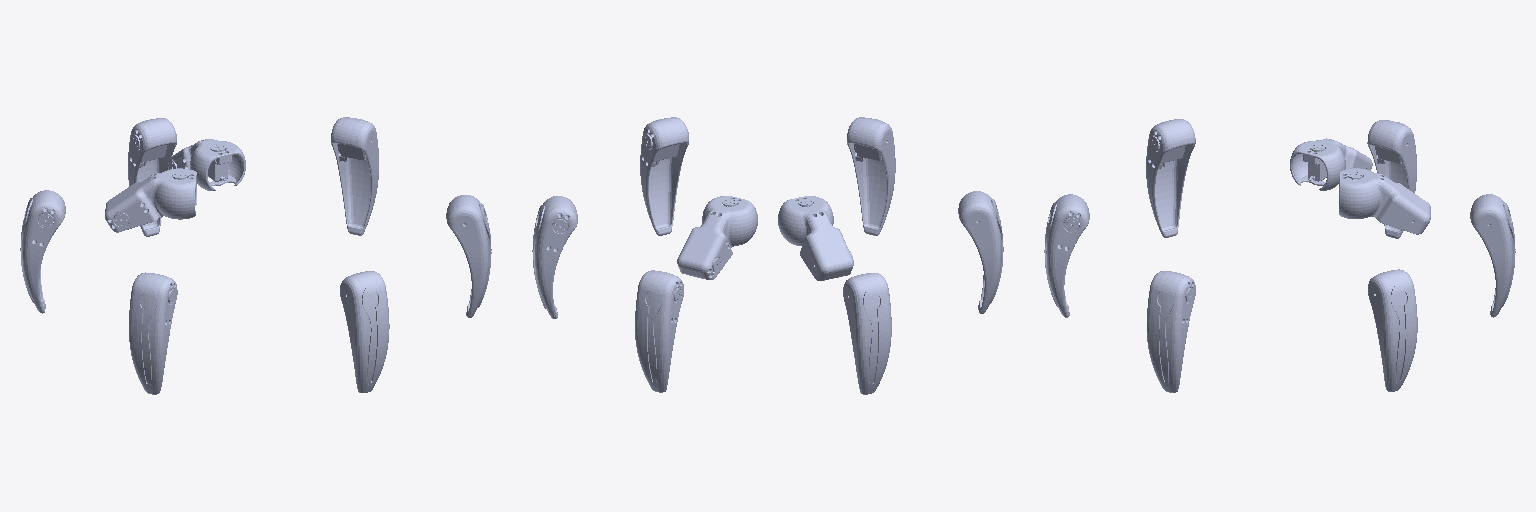
robot.urdf — Spider_Assembly_2:
<?xml version="1.0" encoding="utf-8"?>
<!-- This URDF was automatically created by SolidWorks to URDF Exporter! Originally created by [author] ([email redacted]) 
     Commit Version: 1.6.0-4-g7f85cfe  Build Version: 1.6.7995.38578
     For more information, please see http://wiki.ros.org/sw_urdf_exporter -->
<robot
  name="Spider_Assembly_2">
  <link
    name="base">
    <inertial>
      <origin
        xyz="-1.2244E-08 1.2927E-08 -0.021795"
        rpy="0 0 0" />
      <mass
        value="1.5" />
      <inertia
        ixx="0.002302"
        ixy="-4.563E-10"
        ixz="-1.0633E-10"
        iyy="0.002302"
        iyz="3.0883E-10"
        izz="0.0042233" />
    </inertial>
    <visual>
      <origin
        xyz="0 0 0"
        rpy="0 0 0" />
      <geometry>
        <mesh
          filename="package://Spider_Assembly_2/meshes/base.STL" />
      </geometry>
      <material
        name="">
        <color
          rgba="0.79216 0.81961 0.93333 1" />
      </material>
    </visual>
    <collision>
      <origin
        xyz="0 0 0"
        rpy="0 0 0" />
      <geometry>
        <mesh
          filename="package://Spider_Assembly_2/meshes/base.STL" />
      </geometry>
    </collision>
  </link>
  <link
    name="coxa1">
    <inertial>
      <origin
        xyz="0.00066313 0.03521 -0.033151"
        rpy="0 0 0" />
      <mass
        value="0.18" />
      <inertia
        ixx="9.5472E-05"
        ixy="-1.9634E-06"
        ixz="8.7252E-07"
        iyy="4.9485E-05"
        iyz="2.1567E-05"
        izz="9.9667E-05" />
    </inertial>
    <visual>
      <origin
        xyz="0 0 0"
        rpy="0 0 0" />
      <geometry>
        <mesh
          filename="package://Spider_Assembly_2/meshes/coxa1.STL" />
      </geometry>
      <material
        name="">
        <color
          rgba="0.79216 0.81961 0.93333 1" />
      </material>
    </visual>
    <collision>
      <origin
        xyz="0 0 0"
        rpy="0 0 0" />
      <geometry>
        <mesh
          filename="package://Spider_Assembly_2/meshes/coxa1.STL" />
      </geometry>
    </collision>
  </link>
  <joint
    name="base_to_coxa1"
    type="revolute">
    <origin
      xyz="0 0.1 -0.0229"
      rpy="0 0 0" />
    <parent
      link="base" />
    <child
      link="coxa1" />
    <axis
      xyz="0 0 1" />
    <limit
      lower="-1.0472"
      upper="1.0472"
      effort="10"
      velocity="10" />
  </joint>
  <link
    name="femur1">
    <inertial>
      <origin
        xyz="-0.0009176 -0.049861 -0.0049066"
        rpy="0 0 0" />
      <mass
        value="0.06" />
      <inertia
        ixx="8.6552E-05"
        ixy="-1.0528E-08"
        ixz="2.4849E-07"
        iyy="4.8375E-05"
        iyz="-2.6157E-06"
        izz="0.00012439" />
    </inertial>
    <visual>
      <origin
        xyz="0 0 0"
        rpy="0 0 0" />
      <geometry>
        <mesh
          filename="package://Spider_Assembly_2/meshes/femur1.STL" />
      </geometry>
      <material
        name="">
        <color
          rgba="1 0.67059 0 1" />
      </material>
    </visual>
    <collision>
      <origin
        xyz="0 0 0"
        rpy="0 0 0" />
      <geometry>
        <mesh
          filename="package://Spider_Assembly_2/meshes/femur1.STL" />
      </geometry>
    </collision>
  </link>
  <joint
    name="coxa1_to_femur1"
    type="revolute">
    <origin
      xyz="0.00095743 0.076318 -0.055226"
      rpy="0 0 3.129" />
    <parent
      link="coxa1" />
    <child
      link="femur1" />
    <axis
      xyz="1 0 0" />
    <limit
      lower="-1.5708"
      upper="2.0944"
      effort="100"
      velocity="10" />
  </joint>
  <link
    name="tibia1">
    <inertial>
      <origin
        xyz="0.00042461 -0.013369 -0.034865"
        rpy="0 0 0" />
      <mass
        value="0.11" />
      <inertia
        ixx="0.00014528"
        ixy="3.0075E-09"
        ixz="-2.855E-06"
        iyy="0.00014943"
        iyz="-1.5895E-05"
        izz="3.0404E-05" />
    </inertial>
    <visual>
      <origin
        xyz="0 0 0"
        rpy="0 0 0" />
      <geometry>
        <mesh
          filename="package://Spider_Assembly_2/meshes/tibia1.STL" />
      </geometry>
      <material
        name="">
        <color
          rgba="0.79216 0.81961 0.93333 1" />
      </material>
    </visual>
    <collision>
      <origin
        xyz="0 0 0"
        rpy="0 0 0" />
      <geometry>
        <mesh
          filename="package://Spider_Assembly_2/meshes/tibia1.STL" />
      </geometry>
    </collision>
  </link>
  <joint
    name="femur1_to_tibia1"
    type="revolute">
    <origin
      xyz="0 -0.099941 -0.0034349"
      rpy="0 0 0" />
    <parent
      link="femur1" />
    <child
      link="tibia1" />
    <axis
      xyz="1 0 0" />
    <limit
      lower="-2.0944"
      upper="1.0472"
      effort="100"
      velocity="10" />
  </joint>
  <link
    name="coxa2">
    <inertial>
      <origin
        xyz="-0.029531 0.019185 -0.033151"
        rpy="0 0 0" />
      <mass
        value="0.18" />
      <inertia
        ixx="6.4112E-05"
        ixy="2.1508E-05"
        ixz="-1.7843E-05"
        iyy="8.0846E-05"
        iyz="1.2147E-05"
        izz="9.9669E-05" />
    </inertial>
    <visual>
      <origin
        xyz="0 0 0"
        rpy="0 0 0" />
      <geometry>
        <mesh
          filename="package://Spider_Assembly_2/meshes/coxa2.STL" />
      </geometry>
      <material
        name="">
        <color
          rgba="0.79216 0.81961 0.93333 1" />
      </material>
    </visual>
    <collision>
      <origin
        xyz="0 0 0"
        rpy="0 0 0" />
      <geometry>
        <mesh
          filename="package://Spider_Assembly_2/meshes/coxa2.STL" />
      </geometry>
    </collision>
  </link>
  <joint
    name="base_to_coxa2"
    type="revolute">
    <origin
      xyz="-0.0866030403784432 0.0500008660254048 -0.0228999999999395"
      rpy="0 0 0" />
    <parent
      link="base" />
    <child
      link="coxa2" />
    <axis
      xyz="0 0 1" />
    <limit
      lower="-1.0472"
      upper="1.0472"
      effort="10"
      velocity="10" />
  </joint>
  <link
    name="femur2">
    <inertial>
      <origin
        xyz="-0.0009176 -0.049861 -0.0049067"
        rpy="0 0 0" />
      <mass
        value="0.06" />
      <inertia
        ixx="8.6552E-05"
        ixy="-1.0306E-08"
        ixz="2.485E-07"
        iyy="4.8375E-05"
        iyz="-2.6157E-06"
        izz="0.00012439" />
    </inertial>
    <visual>
      <origin
        xyz="0 0 0"
        rpy="0 0 0" />
      <geometry>
        <mesh
          filename="package://Spider_Assembly_2/meshes/femur2.STL" />
      </geometry>
      <material
        name="">
        <color
          rgba="1 0.67059 0 1" />
      </material>
    </visual>
    <collision>
      <origin
        xyz="0 0 0"
        rpy="0 0 0" />
      <geometry>
        <mesh
          filename="package://Spider_Assembly_2/meshes/femur2.STL" />
      </geometry>
    </collision>
  </link>
  <joint
    name="coxa2_to_femur2"
    type="revolute">
    <origin
      xyz="-0.064264 0.041176 -0.055226"
      rpy="0 0 -2.1406" />
    <parent
      link="coxa2" />
    <child
      link="femur2" />
    <axis
      xyz="1 0 0" />
    <limit
      lower="-1.5708"
      upper="2.0944"
      effort="100"
      velocity="10" />
  </joint>
  <link
    name="tibia2">
    <inertial>
      <origin
        xyz="0.00042461 -0.013369 -0.034865"
        rpy="0 0 0" />
      <mass
        value="0.11" />
      <inertia
        ixx="0.00014528"
        ixy="3.2722E-09"
        ixz="-2.856E-06"
        iyy="0.00014944"
        iyz="-1.5895E-05"
        izz="3.0403E-05" />
    </inertial>
    <visual>
      <origin
        xyz="0 0 0"
        rpy="0 0 0" />
      <geometry>
        <mesh
          filename="package://Spider_Assembly_2/meshes/tibia2.STL" />
      </geometry>
      <material
        name="">
        <color
          rgba="0.79216 0.81961 0.93333 1" />
      </material>
    </visual>
    <collision>
      <origin
        xyz="0 0 0"
        rpy="0 0 0" />
      <geometry>
        <mesh
          filename="package://Spider_Assembly_2/meshes/tibia2.STL" />
      </geometry>
    </collision>
  </link>
  <joint
    name="femur2_to_tibia2"
    type="revolute">
    <origin
      xyz="0 -0.099941 -0.0034349"
      rpy="0 0 0" />
    <parent
      link="femur2" />
    <child
      link="tibia2" />
    <axis
      xyz="1 0 0" />
    <limit
      lower="-2.0944"
      upper="1.0472"
      effort="100"
      velocity="10" />
  </joint>
  <link
    name="coxa3">
    <inertial>
      <origin
        xyz="-0.029972 -0.01849 -0.033151"
        rpy="0 0 0" />
      <mass
        value="0.18" />
      <inertia
        ixx="6.116E-05"
        ixy="-2.011E-05"
        ixz="-1.8614E-05"
        iyy="8.3807E-05"
        iyz="-1.0935E-05"
        izz="9.9672E-05" />
    </inertial>
    <visual>
      <origin
        xyz="0 0 0"
        rpy="0 0 0" />
      <geometry>
        <mesh
          filename="package://Spider_Assembly_2/meshes/coxa3.STL" />
      </geometry>
      <material
        name="">
        <color
          rgba="0.79216 0.81961 0.93333 1" />
      </material>
    </visual>
    <collision>
      <origin
        xyz="0 0 0"
        rpy="0 0 0" />
      <geometry>
        <mesh
          filename="package://Spider_Assembly_2/meshes/coxa3.STL" />
      </geometry>
    </collision>
  </link>
  <joint
    name="base_to_coxa3"
    type="revolute">
    <origin
      xyz="-0.0866040403784443 -0.0499991339745954 -0.0228999999999395"
      rpy="0 0 0" />
    <parent
      link="base" />
    <child
      link="coxa3" />
    <axis
      xyz="0 0 1" />
    <limit
      lower="-1.0472"
      upper="1.0472"
      effort="10"
      velocity="10" />
  </joint>
  <link
    name="femur3">
    <inertial>
      <origin
        xyz="-0.00091762 -0.049861 -0.0049049"
        rpy="0 0 0" />
      <mass
        value="0.06" />
      <inertia
        ixx="8.6552E-05"
        ixy="-1.0422E-08"
        ixz="2.4858E-07"
        iyy="4.8375E-05"
        iyz="-2.6155E-06"
        izz="0.00012439" />
    </inertial>
    <visual>
      <origin
        xyz="0 0 0"
        rpy="0 0 0" />
      <geometry>
        <mesh
          filename="package://Spider_Assembly_2/meshes/femur3.STL" />
      </geometry>
      <material
        name="">
        <color
          rgba="1 0.67059 0 1" />
      </material>
    </visual>
    <collision>
      <origin
        xyz="0 0 0"
        rpy="0 0 0" />
      <geometry>
        <mesh
          filename="package://Spider_Assembly_2/meshes/femur3.STL" />
      </geometry>
    </collision>
  </link>
  <joint
    name="coxa3_to_femur3"
    type="revolute">
    <origin
      xyz="-0.064704 -0.04048 -0.055226"
      rpy="0 0 -1.0118" />
    <parent
      link="coxa3" />
    <child
      link="femur3" />
    <axis
      xyz="1 0 0" />
    <limit
      lower="-1.5708"
      upper="2.0944"
      effort="100"
      velocity="10" />
  </joint>
  <link
    name="tibia3">
    <inertial>
      <origin
        xyz="0.0004246 -0.013369 -0.034865"
        rpy="0 0 0" />
      <mass
        value="0.11" />
      <inertia
        ixx="0.00014528"
        ixy="2.9252E-09"
        ixz="-2.8551E-06"
        iyy="0.00014943"
        iyz="-1.5895E-05"
        izz="3.0403E-05" />
    </inertial>
    <visual>
      <origin
        xyz="0 0 0"
        rpy="0 0 0" />
      <geometry>
        <mesh
          filename="package://Spider_Assembly_2/meshes/tibia3.STL" />
      </geometry>
      <material
        name="">
        <color
          rgba="0.79216 0.81961 0.93333 1" />
      </material>
    </visual>
    <collision>
      <origin
        xyz="0 0 0"
        rpy="0 0 0" />
      <geometry>
        <mesh
          filename="package://Spider_Assembly_2/meshes/tibia3.STL" />
      </geometry>
    </collision>
  </link>
  <joint
    name="femur3_to_tibia3"
    type="revolute">
    <origin
      xyz="0 -0.099941 -0.0034349"
      rpy="0 0 0" />
    <parent
      link="femur3" />
    <child
      link="tibia3" />
    <axis
      xyz="1 0 0" />
    <limit
      lower="-2.0944"
      upper="1.0472"
      effort="100"
      velocity="10" />
  </joint>
  <link
    name="coxa4">
    <inertial>
      <origin
        xyz="0.00088599 -0.035205 -0.033151"
        rpy="0 0 0" />
      <mass
        value="0.18" />
      <inertia
        ixx="9.5561E-05"
        ixy="6.7233E-08"
        ixz="7.8148E-08"
        iyy="4.9405E-05"
        iyz="-2.1588E-05"
        izz="9.967E-05" />
    </inertial>
    <visual>
      <origin
        xyz="0 0 0"
        rpy="0 0 0" />
      <geometry>
        <mesh
          filename="package://Spider_Assembly_2/meshes/coxa4.STL" />
      </geometry>
      <material
        name="">
        <color
          rgba="0.79216 0.81961 0.93333 1" />
      </material>
    </visual>
    <collision>
      <origin
        xyz="0 0 0"
        rpy="0 0 0" />
      <geometry>
        <mesh
          filename="package://Spider_Assembly_2/meshes/coxa4.STL" />
      </geometry>
    </collision>
  </link>
  <joint
    name="base_to_coxa4"
    type="revolute">
    <origin
      xyz="0 -0.1 -0.0228999999999395"
      rpy="0 0 0" />
    <parent
      link="base" />
    <child
      link="coxa4" />
    <axis
      xyz="0 0 1" />
    <limit
      lower="-1.0472"
      upper="1.0472"
      effort="10"
      velocity="10" />
  </joint>
  <link
    name="femur4">
    <inertial>
      <origin
        xyz="0.00065147 -0.049865 -0.0049066"
        rpy="0 0 0" />
      <mass
        value="0.06" />
      <inertia
        ixx="8.6515E-05"
        ixy="1.1915E-06"
        ixz="3.3076E-07"
        iyy="4.8412E-05"
        iyz="-2.6066E-06"
        izz="0.00012439" />
    </inertial>
    <visual>
      <origin
        xyz="0 0 0"
        rpy="0 0 0" />
      <geometry>
        <mesh
          filename="package://Spider_Assembly_2/meshes/femur4.STL" />
      </geometry>
      <material
        name="">
        <color
          rgba="1 0.67059 0 1" />
      </material>
    </visual>
    <collision>
      <origin
        xyz="0 0 0"
        rpy="0 0 0" />
      <geometry>
        <mesh
          filename="package://Spider_Assembly_2/meshes/femur4.STL" />
      </geometry>
    </collision>
  </link>
  <joint
    name="coxa4_to_femur4"
    type="revolute">
    <origin
      xyz="0.0024042 -0.076286 -0.055226"
      rpy="0 0 0" />
    <parent
      link="coxa4" />
    <child
      link="femur4" />
    <axis
      xyz="0.9995 0.0315 0" />
    <limit
      lower="-1.5708"
      upper="2.0944"
      effort="100"
      velocity="10" />
  </joint>
  <link
    name="tibia4">
    <inertial>
      <origin
        xyz="0.00042261 -0.013369 -0.034865"
        rpy="0 0 0" />
      <mass
        value="0.11" />
      <inertia
        ixx="0.00014528"
        ixy="3.0099E-09"
        ixz="-2.855E-06"
        iyy="0.00014943"
        iyz="-1.5895E-05"
        izz="3.0404E-05" />
    </inertial>
    <visual>
      <origin
        xyz="0 0 0"
        rpy="0 0 0" />
      <geometry>
        <mesh
          filename="package://Spider_Assembly_2/meshes/tibia4.STL" />
      </geometry>
      <material
        name="">
        <color
          rgba="0.79216 0.81961 0.93333 1" />
      </material>
    </visual>
    <collision>
      <origin
        xyz="0 0 0"
        rpy="0 0 0" />
      <geometry>
        <mesh
          filename="package://Spider_Assembly_2/meshes/tibia4.STL" />
      </geometry>
    </collision>
  </link>
  <joint
    name="femur4_to_tibia4"
    type="revolute">
    <origin
      xyz="0.0031481 -0.099891 -0.0034349"
      rpy="0 0 0.031505" />
    <parent
      link="femur4" />
    <child
      link="tibia4" />
    <axis
      xyz="1 0 0" />
    <limit
      lower="-2.0944"
      upper="1.0472"
      effort="100"
      velocity="10" />
  </joint>
  <link
    name="coxa5">
    <inertial>
      <origin
        xyz="0.030128 -0.018234 -0.033151"
        rpy="0 0 0" />
      <mass
        value="0.18" />
      <inertia
        ixx="6.276E-05"
        ixy="2.0931E-05"
        ixz="1.8221E-05"
        iyy="8.2199E-05"
        iyz="-1.1573E-05"
        izz="9.9669E-05" />
    </inertial>
    <visual>
      <origin
        xyz="0 0 0"
        rpy="0 0 0" />
      <geometry>
        <mesh
          filename="package://Spider_Assembly_2/meshes/coxa5.STL" />
      </geometry>
      <material
        name="">
        <color
          rgba="0.79216 0.81961 0.93333 1" />
      </material>
    </visual>
    <collision>
      <origin
        xyz="0 0 0"
        rpy="0 0 0" />
      <geometry>
        <mesh
          filename="package://Spider_Assembly_2/meshes/coxa5.STL" />
      </geometry>
    </collision>
  </link>
  <joint
    name="base_to_coxa5"
    type="revolute">
    <origin
      xyz="0.0866010403784438 -0.0500008660254042 -0.0228999999999395"
      rpy="0 0 0" />
    <parent
      link="base" />
    <child
      link="coxa5" />
    <axis
      xyz="0 0 1" />
    <limit
      lower="-1.0472"
      upper="1.0472"
      effort="10"
      velocity="10" />
  </joint>
  <link
    name="femur5">
    <inertial>
      <origin
        xyz="-0.0009176 -0.049861 -0.0049067"
        rpy="0 0 0" />
      <mass
        value="0.06" />
      <inertia
        ixx="8.6552E-05"
        ixy="-1.0306E-08"
        ixz="2.485E-07"
        iyy="4.8375E-05"
        iyz="-2.6157E-06"
        izz="0.00012439" />
    </inertial>
    <visual>
      <origin
        xyz="0 0 0"
        rpy="0 0 0" />
      <geometry>
        <mesh
          filename="package://Spider_Assembly_2/meshes/femur5.STL" />
      </geometry>
      <material
        name="">
        <color
          rgba="1 0.67059 0 1" />
      </material>
    </visual>
    <collision>
      <origin
        xyz="0 0 0"
        rpy="0 0 0" />
      <geometry>
        <mesh
          filename="package://Spider_Assembly_2/meshes/femur5.STL" />
      </geometry>
    </collision>
  </link>
  <joint
    name="coxa5_to_femur5"
    type="revolute">
    <origin
      xyz="0.065543 -0.039107 -0.055226"
      rpy="0 0 1.0328" />
    <parent
      link="coxa5" />
    <child
      link="femur5" />
    <axis
      xyz="1 0 0" />
    <limit
      lower="-1.5708"
      upper="2.0944"
      effort="100"
      velocity="10" />
  </joint>
  <link
    name="tibia5">
    <inertial>
      <origin
        xyz="0.00042461 -0.013369 -0.034865"
        rpy="0 0 0" />
      <mass
        value="0.11" />
      <inertia
        ixx="0.00014528"
        ixy="3.2734E-09"
        ixz="-2.856E-06"
        iyy="0.00014944"
        iyz="-1.5895E-05"
        izz="3.0403E-05" />
    </inertial>
    <visual>
      <origin
        xyz="0 0 0"
        rpy="0 0 0" />
      <geometry>
        <mesh
          filename="package://Spider_Assembly_2/meshes/tibia5.STL" />
      </geometry>
      <material
        name="">
        <color
          rgba="0.79216 0.81961 0.93333 1" />
      </material>
    </visual>
    <collision>
      <origin
        xyz="0 0 0"
        rpy="0 0 0" />
      <geometry>
        <mesh
          filename="package://Spider_Assembly_2/meshes/tibia5.STL" />
      </geometry>
    </collision>
  </link>
  <joint
    name="femur5_to_tibia5"
    type="revolute">
    <origin
      xyz="0 -0.099941 -0.0034349"
      rpy="0 0 0" />
    <parent
      link="femur5" />
    <child
      link="tibia5" />
    <axis
      xyz="1 0 0" />
    <limit
      lower="-2.0944"
      upper="1.0472"
      effort="100"
      velocity="10" />
  </joint>
  <link
    name="coxa6">
    <inertial>
      <origin
        xyz="0.029393 0.019396 -0.033151"
        rpy="0 0 0" />
      <mass
        value="0.18" />
      <inertia
        ixx="6.2409E-05"
        ixy="-2.0764E-05"
        ixz="1.8271E-05"
        iyy="8.2559E-05"
        iyz="1.1498E-05"
        izz="9.9672E-05" />
    </inertial>
    <visual>
      <origin
        xyz="0 0 0"
        rpy="0 0 0" />
      <geometry>
        <mesh
          filename="package://Spider_Assembly_2/meshes/coxa6.STL" />
      </geometry>
      <material
        name="">
        <color
          rgba="0.79216 0.81961 0.93333 1" />
      </material>
    </visual>
    <collision>
      <origin
        xyz="0 0 0"
        rpy="0 0 0" />
      <geometry>
        <mesh
          filename="package://Spider_Assembly_2/meshes/coxa6.STL" />
      </geometry>
    </collision>
  </link>
  <joint
    name="base_to_coxa6"
    type="revolute">
    <origin
      xyz="0.0866020403784441 0.0499991339745961 -0.0228999999999395"
      rpy="0 0 0" />
    <parent
      link="base" />
    <child
      link="coxa6" />
    <axis
      xyz="0 0 1" />
    <limit
      lower="-1.0472"
      upper="1.0472"
      effort="10"
      velocity="10" />
  </joint>
  <link
    name="femur6">
    <inertial>
      <origin
        xyz="-0.00091762 -0.049861 -0.0049049"
        rpy="0 0 0" />
      <mass
        value="0.06" />
      <inertia
        ixx="8.6552E-05"
        ixy="-1.0422E-08"
        ixz="2.4858E-07"
        iyy="4.8375E-05"
        iyz="-2.6155E-06"
        izz="0.00012439" />
    </inertial>
    <visual>
      <origin
        xyz="0 0 0"
        rpy="0 0 0" />
      <geometry>
        <mesh
          filename="package://Spider_Assembly_2/meshes/femur6.STL" />
      </geometry>
      <material
        name="">
        <color
          rgba="1 0.67059 0 1" />
      </material>
    </visual>
    <collision>
      <origin
        xyz="0 0 0"
        rpy="0 0 0" />
      <geometry>
        <mesh
          filename="package://Spider_Assembly_2/meshes/femur6.STL" />
      </geometry>
    </collision>
  </link>
  <joint
    name="coxa6_to_femur6"
    type="revolute">
    <origin
      xyz="0.063439 0.042436 -0.055226"
      rpy="0 0 2.1604" />
    <parent
      link="coxa6" />
    <child
      link="femur6" />
    <axis
      xyz="1 0 0" />
    <limit
      lower="-1.5708"
      upper="2.0944"
      effort="100"
      velocity="10" />
  </joint>
  <link
    name="tibia6">
    <inertial>
      <origin
        xyz="0.0004246 -0.013369 -0.034865"
        rpy="0 0 0" />
      <mass
        value="0.11" />
      <inertia
        ixx="0.00014528"
        ixy="2.9283E-09"
        ixz="-2.8551E-06"
        iyy="0.00014943"
        iyz="-1.5895E-05"
        izz="3.0403E-05" />
    </inertial>
    <visual>
      <origin
        xyz="0 0 0"
        rpy="0 0 0" />
      <geometry>
        <mesh
          filename="package://Spider_Assembly_2/meshes/tibia6.STL" />
      </geometry>
      <material
        name="">
        <color
          rgba="0.79216 0.81961 0.93333 1" />
      </material>
    </visual>
    <collision>
      <origin
        xyz="0 0 0"
        rpy="0 0 0" />
      <geometry>
        <mesh
          filename="package://Spider_Assembly_2/meshes/tibia6.STL" />
      </geometry>
    </collision>
  </link>
  <joint
    name="femur6_to_tibia6"
    type="revolute">
    <origin
      xyz="0 -0.099941 -0.0034349"
      rpy="0 0 0" />
    <parent
      link="femur6" />
    <child
      link="tibia6" />
    <axis
      xyz="1 0 0" />
    <limit
      lower="-2.0944"
      upper="1.0472"
      effort="100"
      velocity="10" />
  </joint>
</robot>

--- Facts derived from the render (not from the file) ---
Views: 3 orthographic renders of the robot side by side, from view 1: azimuth 30°, elevation 25°; view 2: azimuth 150°, elevation 25°; view 3: azimuth 270°, elevation 25°.
Robot: Spider_Assembly_2 — 19 links, 18 joints (18 revolute); root link base; default pose: all joints at 0.
Visible links, largest first — view 1: tibia3, tibia4, tibia6, coxa2, tibia5, tibia2, tibia1, coxa1; view 2: tibia2, tibia1, coxa1, tibia4, tibia5, coxa2, tibia6, tibia3; view 3: tibia5, tibia6, tibia3, coxa1, tibia4, tibia1, tibia2, coxa2.
Boxes of the visible links, box(x1,y1,x2,y2) form: tibia3: box(129, 272, 177, 394); tibia4: box(340, 271, 389, 392); tibia6: box(331, 117, 378, 235); coxa2: box(105, 168, 196, 232); tibia5: box(446, 195, 491, 317); tibia2: box(20, 190, 65, 313); tibia1: box(128, 118, 176, 236); coxa1: box(168, 139, 245, 190); tibia2: box(843, 273, 891, 394); tibia1: box(635, 270, 683, 392); coxa1: box(677, 196, 757, 279); tibia4: box(847, 117, 895, 235); tibia5: box(640, 117, 688, 235); coxa2: box(778, 196, 853, 280); tibia6: box(532, 196, 577, 318); tibia3: box(958, 191, 1003, 313); tibia5: box(1147, 271, 1195, 392); tibia6: box(1368, 269, 1417, 391); tibia3: box(1146, 119, 1195, 237); coxa1: box(1339, 168, 1430, 234); tibia4: box(1044, 194, 1089, 317); tibia1: box(1470, 194, 1515, 317); tibia2: box(1367, 120, 1416, 238); coxa2: box(1290, 138, 1372, 190).
Bounding box of the posed robot: 0.5472 × 0.6221 × 0.2035 m (x, y, z).
8 mesh visuals loaded from 19 distinct referenced files (8 binary STL); not drawn: 11 (reference not matched to a file when rendering).